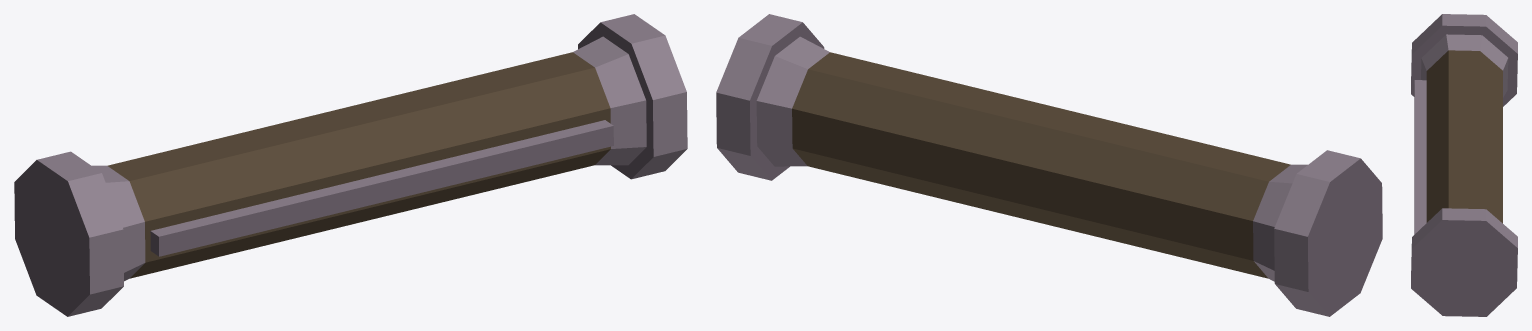
File: SM_Prop_Scroll_01.fbx
The picture shows the model from 3 angles, left to right: view 1: azimuth 30°, elevation 25°; view 2: azimuth 150°, elevation 25°; view 3: azimuth 270°, elevation 25°; orthographic projection. The views are drawn at different scales.
Visible parts, largest first — view 1: SM_Prop_Scroll_01; view 2: SM_Prop_Scroll_01; view 3: SM_Prop_Scroll_01.
Part boxes in pixels (x1=…): SM_Prop_Scroll_01: x1=14, y1=14, x2=687, y2=316; SM_Prop_Scroll_01: x1=716, y1=14, x2=1382, y2=316; SM_Prop_Scroll_01: x1=1411, y1=14, x2=1517, y2=316.
Size of the model in its own units: 0.491 by 0.1077 by 0.1077.
Materials: 1 (1 with a texture image).
